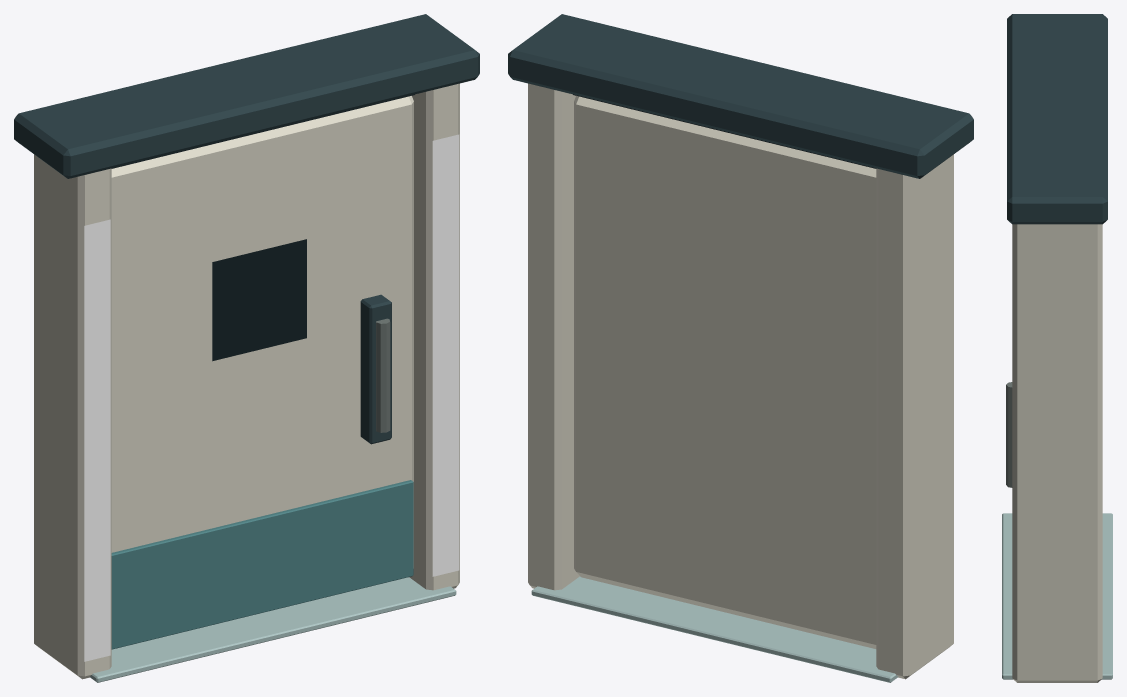
File: cold-storage-door.glb
The picture shows the model from 3 angles, left to right: view 1: azimuth 30°, elevation 25°; view 2: azimuth 150°, elevation 25°; view 3: azimuth 270°, elevation 25°; orthographic projection. The views are drawn at different scales.
Parts seen in each view (by area): view 1: cold-storage-door__cold-door__ivory, cold-storage-door__cold-storage-door__ivory, cold-storage-door__cold-storage-door__steel, cold-storage-door__cold-door__petrol, cold-storage-door__cold-storage-door__decal-hazard, cold-storage-door__cold-storage-door__frost, cold-storage-door__cold-door__decal-indigo, cold-storage-door__cold-door__steel, cold-storage-door__cold-door__hardware; view 2: cold-storage-door__cold-door__ivory, cold-storage-door__cold-storage-door__ivory, cold-storage-door__cold-storage-door__steel, cold-storage-door__cold-storage-door__frost; view 3: cold-storage-door__cold-storage-door__ivory, cold-storage-door__cold-storage-door__steel, cold-storage-door__cold-storage-door__frost, cold-storage-door__cold-door__hardware.
Part boxes in pixels (<box>): cold-storage-door__cold-door__ivory: <box>111,96,413,568</box>; cold-storage-door__cold-storage-door__ivory: <box>34,83,459,679</box>; cold-storage-door__cold-storage-door__steel: <box>14,14,479,178</box>; cold-storage-door__cold-door__petrol: <box>111,480,413,649</box>; cold-storage-door__cold-storage-door__decal-hazard: <box>84,134,459,661</box>; cold-storage-door__cold-storage-door__frost: <box>90,577,456,682</box>; cold-storage-door__cold-door__decal-indigo: <box>212,239,306,361</box>; cold-storage-door__cold-door__steel: <box>360,294,391,444</box>; cold-storage-door__cold-door__hardware: <box>376,318,390,432</box>; cold-storage-door__cold-door__ivory: <box>574,96,876,648</box>; cold-storage-door__cold-storage-door__ivory: <box>528,83,953,679</box>; cold-storage-door__cold-storage-door__steel: <box>508,14,973,178</box>; cold-storage-door__cold-storage-door__frost: <box>531,576,897,682</box>; cold-storage-door__cold-storage-door__ivory: <box>1012,224,1102,682</box>; cold-storage-door__cold-storage-door__steel: <box>1007,14,1107,224</box>; cold-storage-door__cold-storage-door__frost: <box>1002,513,1112,679</box>; cold-storage-door__cold-door__hardware: <box>1006,382,1012,487</box>.
Bounding box in the file's own units: 2.2 × 2.71 × 0.55.
